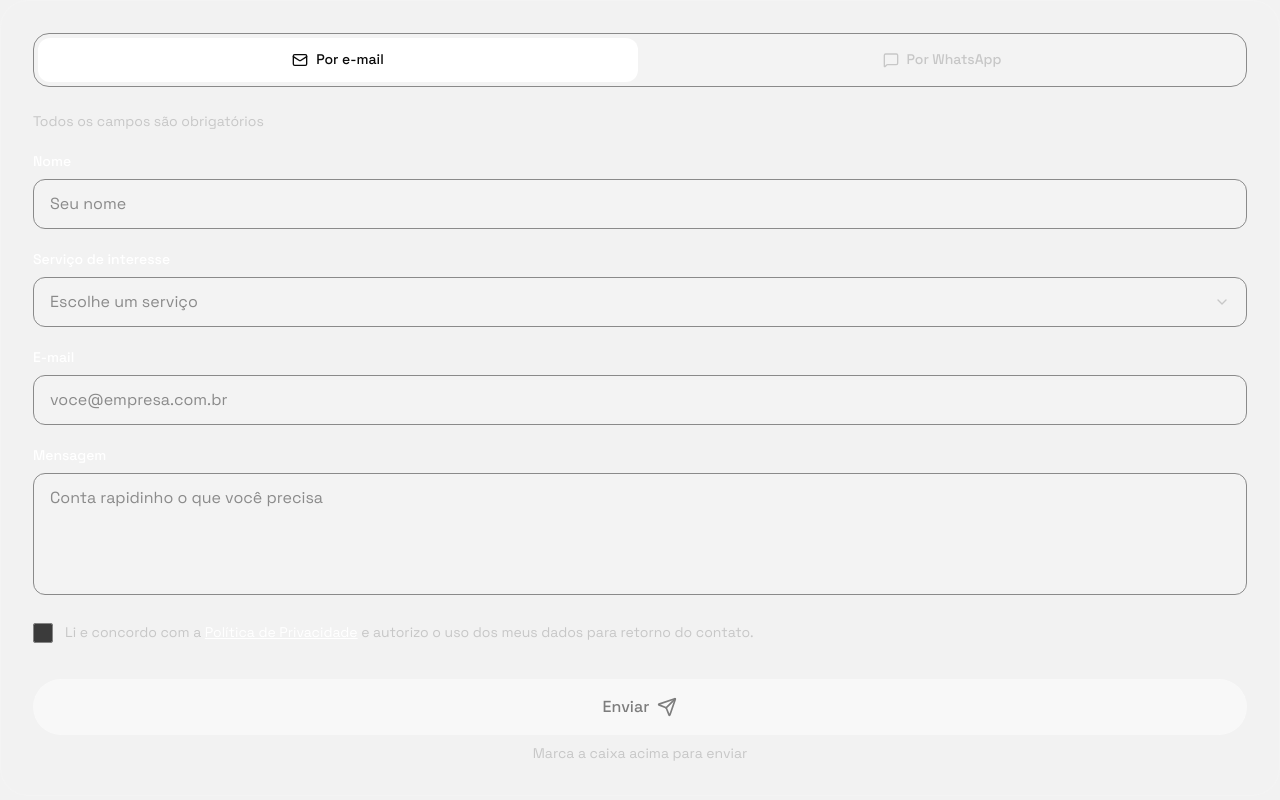
Test: ContactForm sending, success and error › thanks the visitor by e-mail after a send by e-mail
The image size is (1280, 800).
Type "Ana Lima" into the field labelled "Nome". click: x=640, y=204
box: [33,179,1247,229]
Click the button "Escolhe um serviço". click: x=124, y=302
box: [33,277,1247,327]
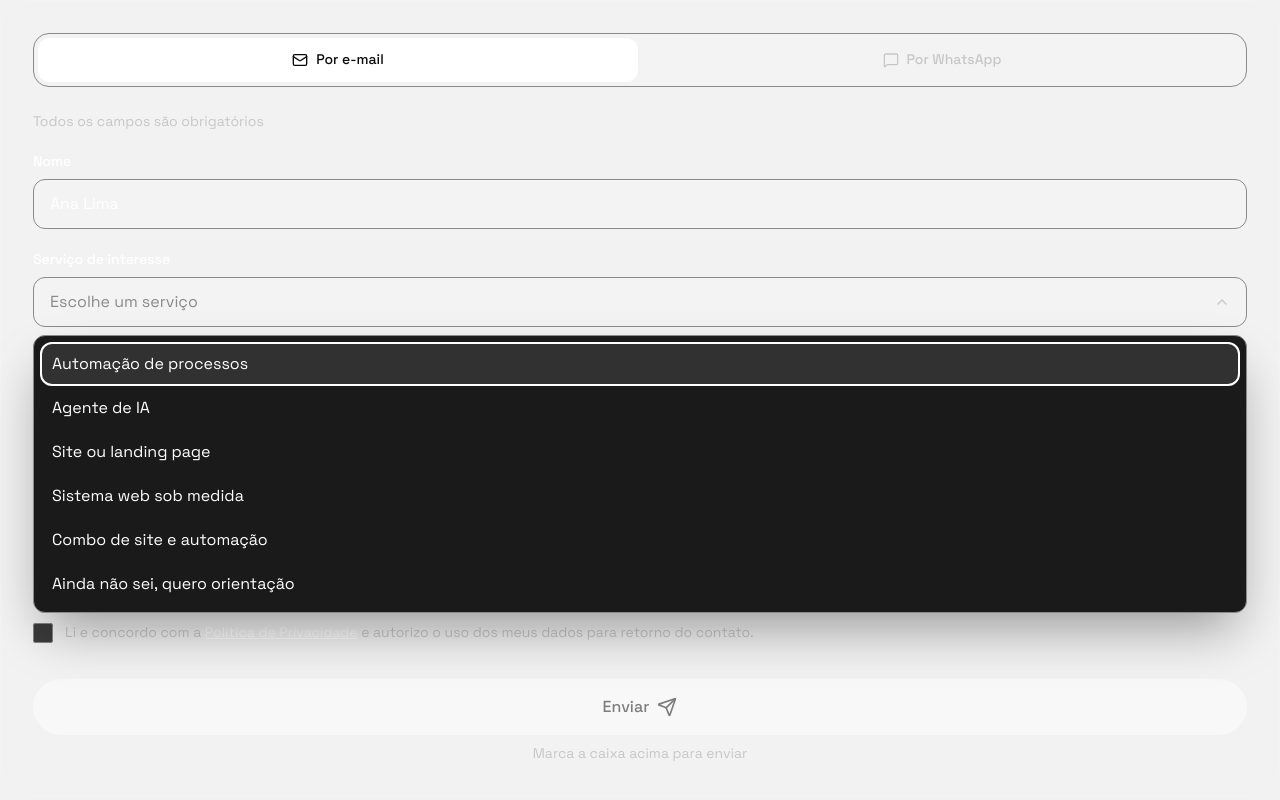
Click the option "Automação de processos". click: x=150, y=364
box: [40,342,1240,386]
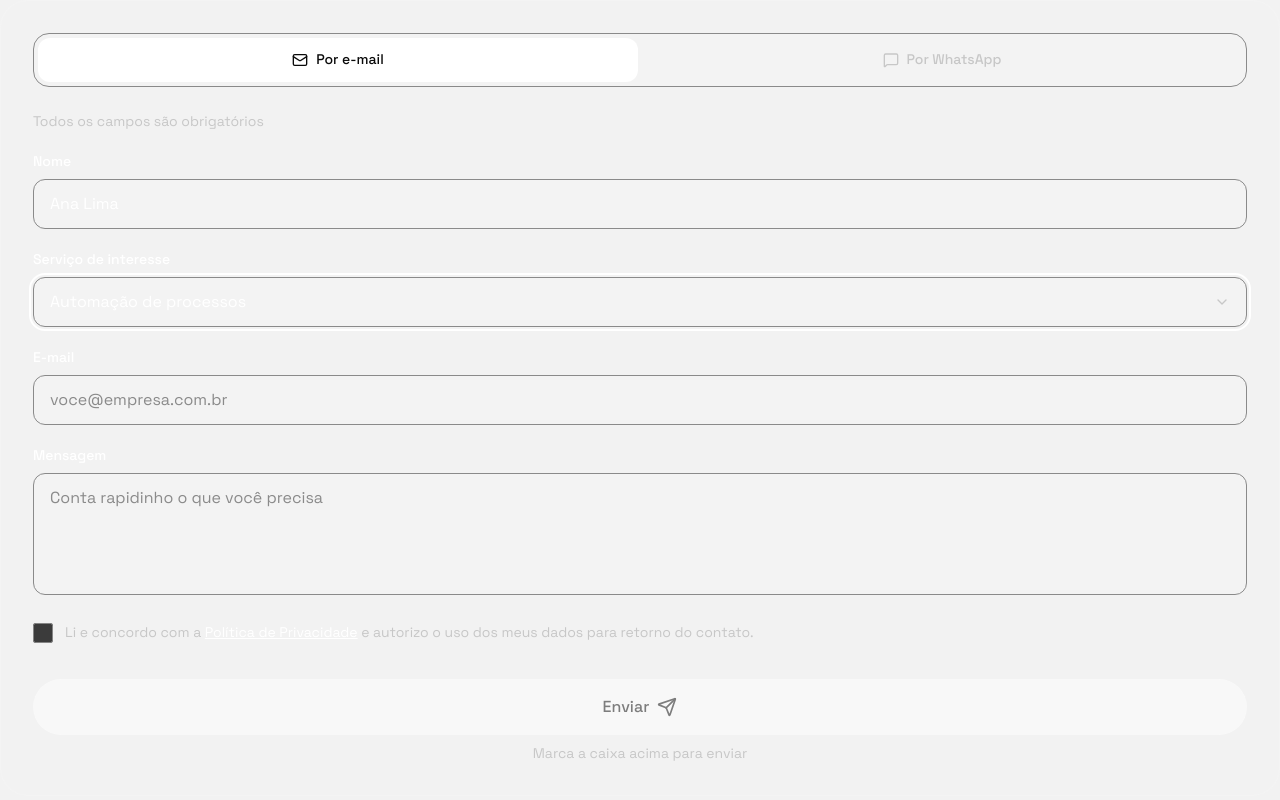
Now the list is gone
Type "ana@example.com" into the field labelled "E-mail". click: x=640, y=400
box: [33,375,1247,425]
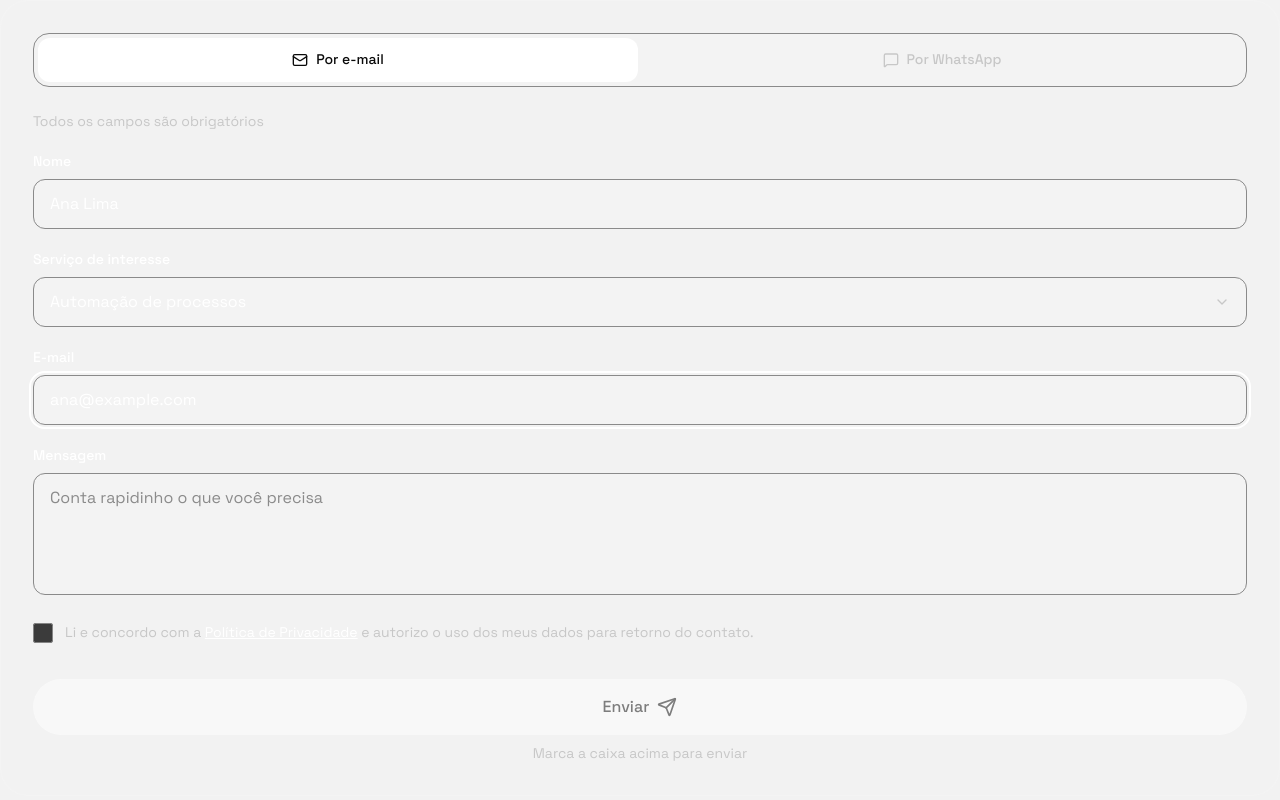
Type "Quero automatizar notas fiscais" into the text box labelled "Mensagem". click: x=640, y=534
box: [33,473,1247,595]
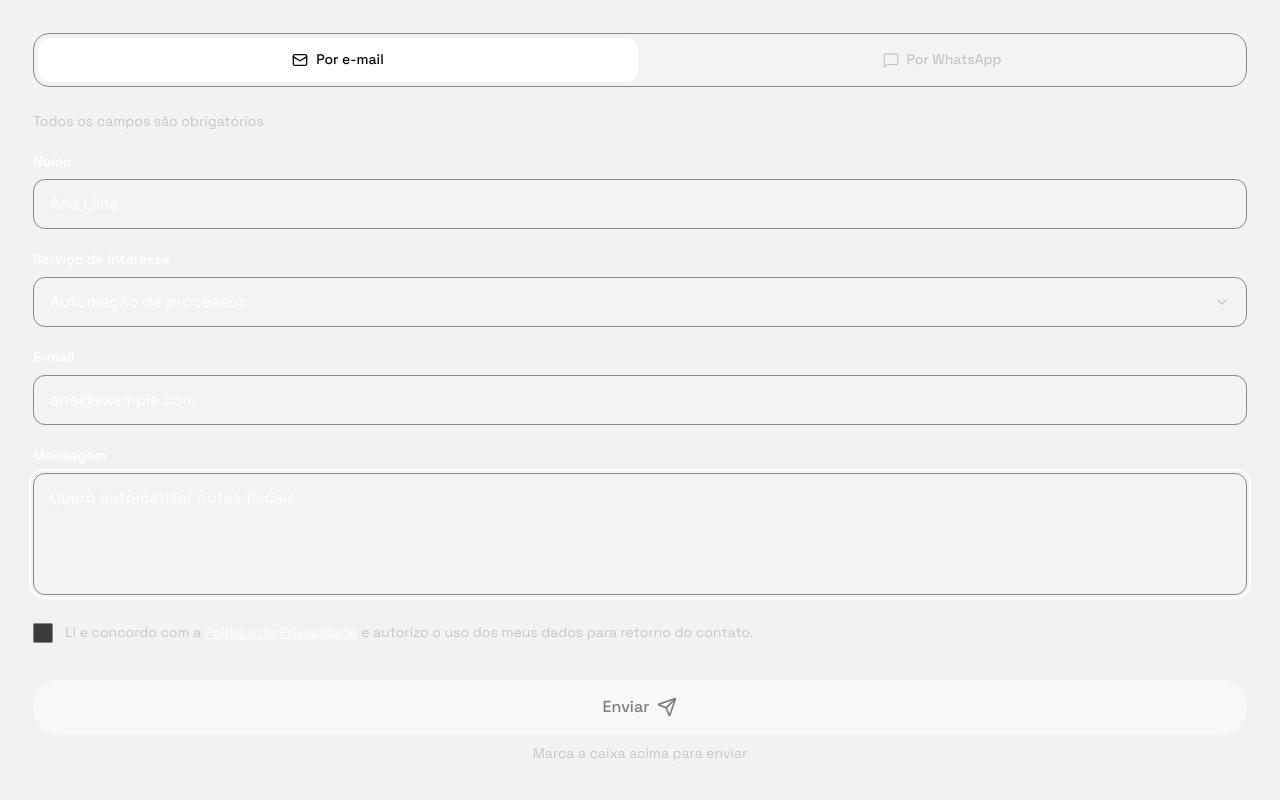
Click the checkbox. click: x=43, y=633
box: [33,623,53,643]
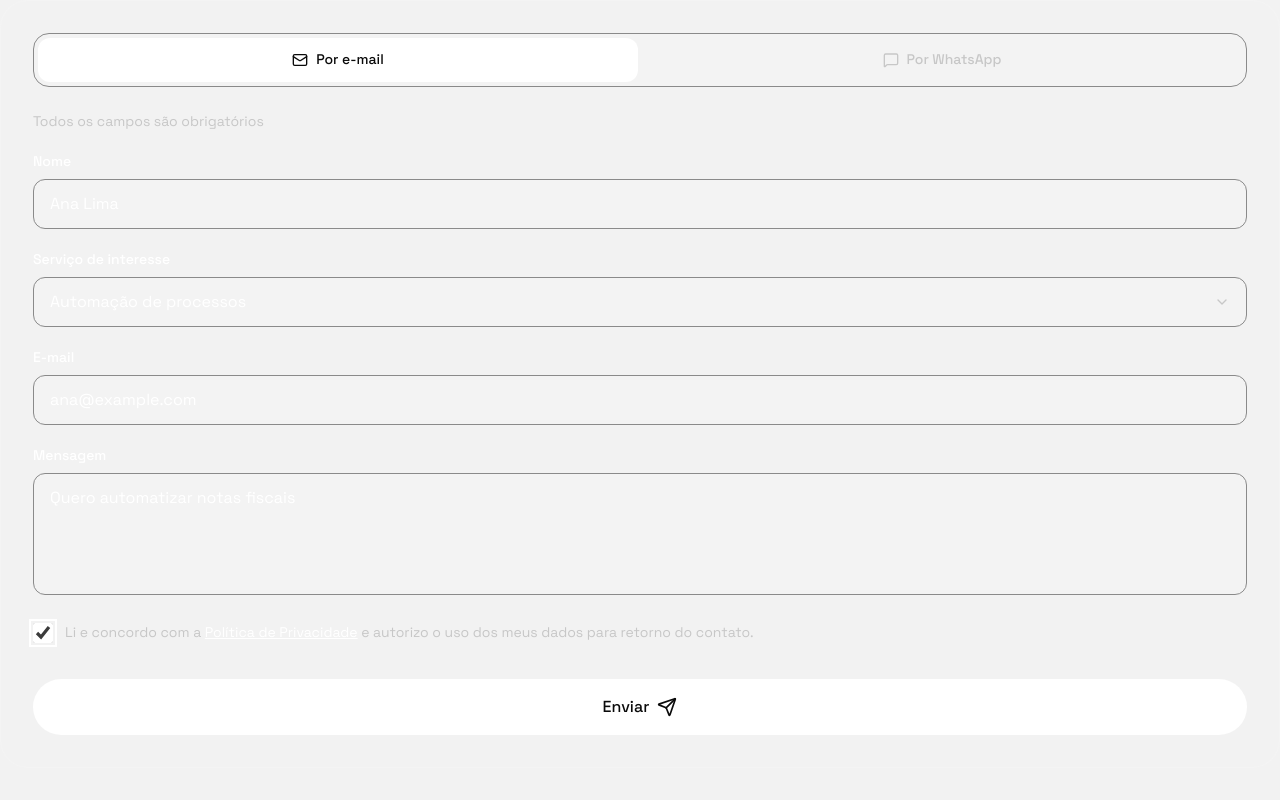
Click the button "Enviar". click: x=640, y=707
box: [33,679,1247,735]
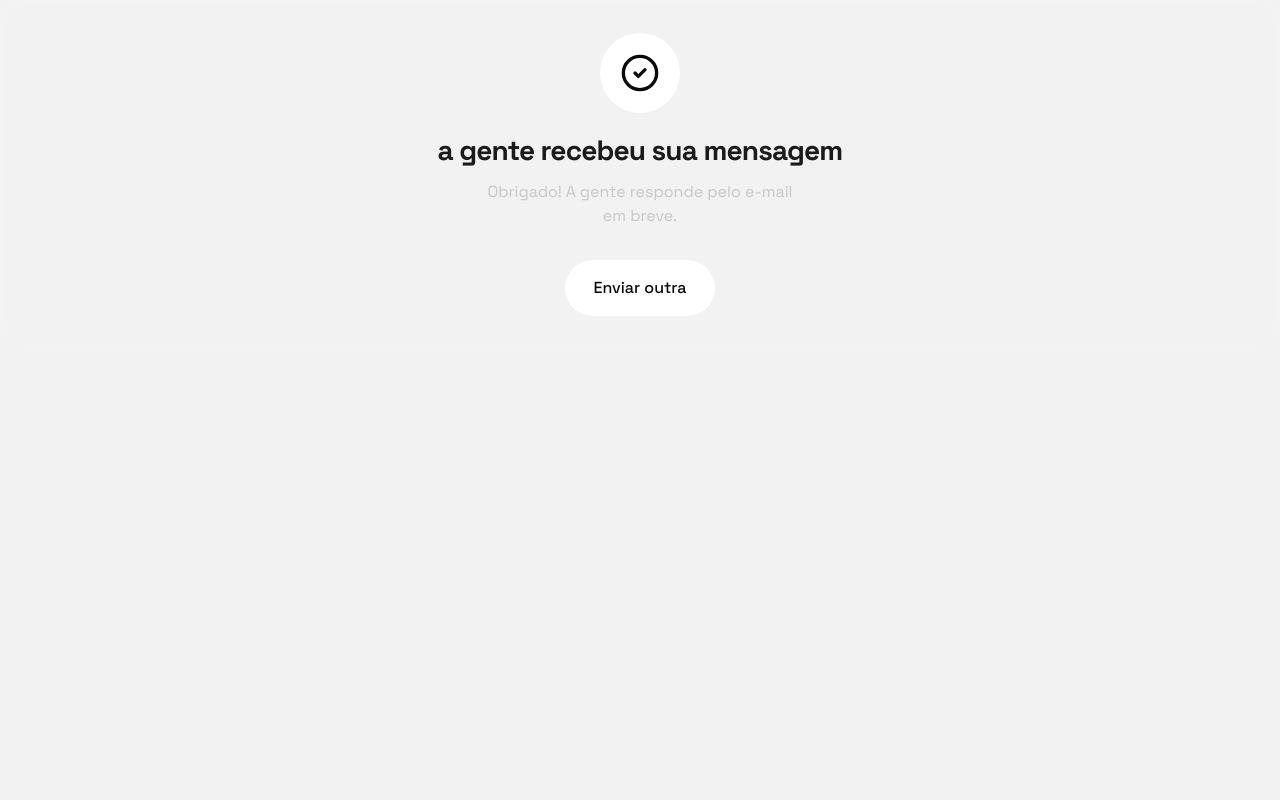
Now the heading "A gente recebeu sua mensagem" is shown, box [438,132,842,168]
Now the button "Enviar outra" is shown, box [566,260,714,316]
